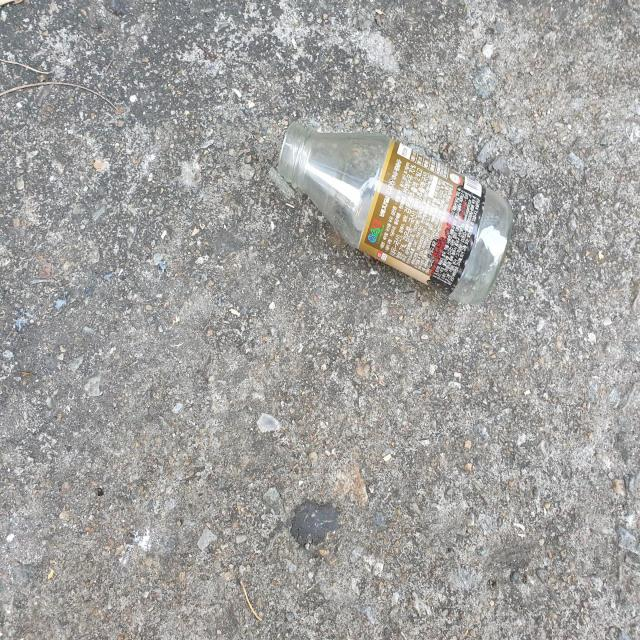glass: (279, 123, 513, 304)
